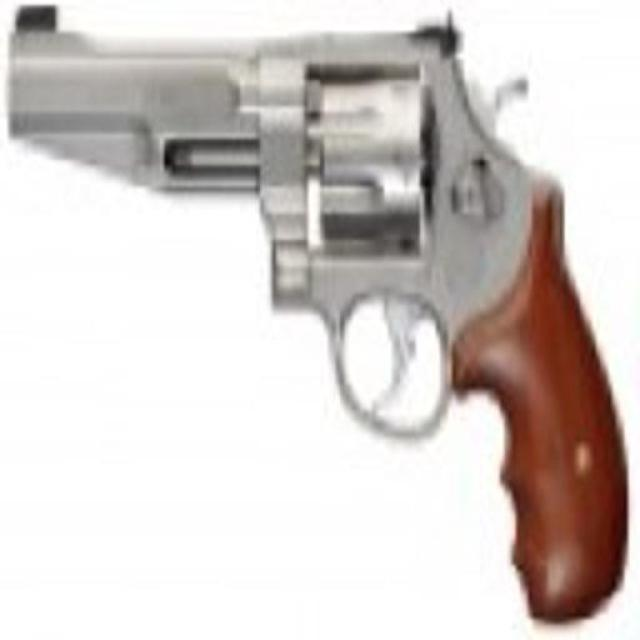pistol: (15, 15, 624, 634)
